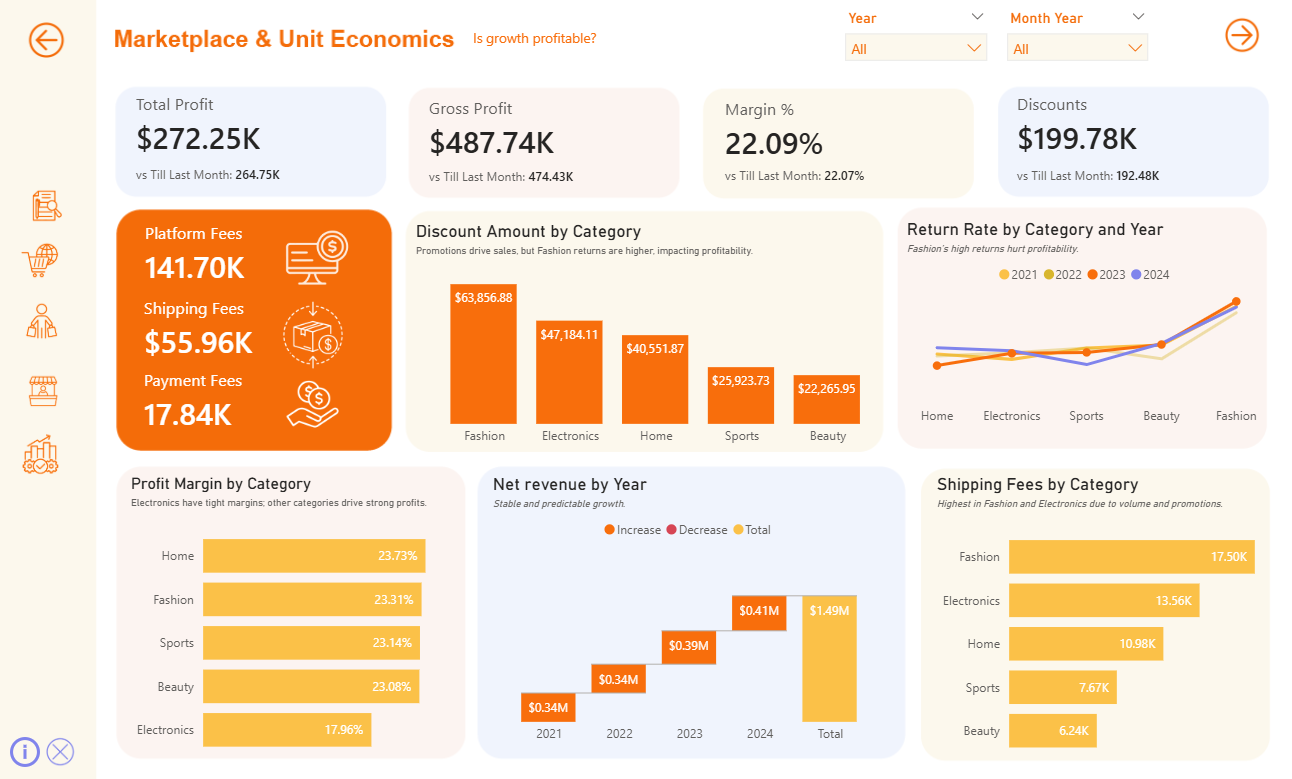

The dashboard page shown, as its layout file describes it:
{"tool":"powerbi","page":{"name":"Marketplace & Unit Economics","canvas":[1280,780],"ordinal":1},"visuals":[{"type":"clusteredColumnChart","title":"Discount Amount by Category","fields":{"Category":["Products_raw.Category"],"Y":["Sum(Orders_2021_2024.DiscountAmount)"]},"box":[409.3,223.7,483.5,229.9],"z":0},{"type":"waterfallChart","title":"Net revenue by Year","fields":{"Category":["Calendar.Year"],"Y":["Sum(Orders_2021_2024.NetRevenue)"]},"box":[484.5,473.2,397.9,274.2],"z":1000},{"type":"cardVisual","fields":{"Data":["_Measures.Margin %"]},"box":[713.4,106.2,186.6,109.3],"z":2000},{"type":"cardVisual","fields":{"Data":["Sum(Orders_2021_2024.ShippingFeeCharged)"]},"box":[141,295,159,69],"z":3000},{"type":"cardVisual","fields":{"Data":["_Measures.Payment Fees"]},"box":[141.2,370.1,158.8,59.8],"z":4000},{"type":"cardVisual","fields":{"Data":["Sum(Orders_2021_2024.PlatformFee)"]},"box":[142,221,158,69],"z":5000},{"type":"cardVisual","fields":{"Data":["_Measures.Total Discount"]},"box":[1001,96.9,168,129.9],"z":6000},{"type":"cardVisual","fields":{"Data":["_Measures.Total Profit"]},"box":[133,95.9,209.3,130.9],"z":7000},{"type":"cardVisual","fields":{"Data":["_Measures.Gross Profit"]},"box":[421.6,103.1,211.3,117.5],"z":8000},{"type":"textbox","box":[464.9,29.9,154.6,30.9],"z":9000},{"type":"clusteredBarChart","title":"Profit Margin by Category","fields":{"Y":["_Measures.Margin %"],"Category":["Products_raw.Category"]},"box":[128,473,358,292],"z":10000},{"type":"clusteredBarChart","fields":{"Y":["_Measures.Shipping Fees"],"Category":["Products_raw.Category"]},"box":[922.7,473.2,357.7,292.8],"z":11000},{"type":"image","box":[9.3,185.6,79,49],"z":12000},{"type":"lineChart","fields":{"Category":["Products_raw.Category"],"Y":["_Measures.Return Rate"],"Series":["Calendar.Year"]},"box":[892.8,221.6,363.9,212.4],"z":13000},{"type":"image","box":[9.3,233.6,70,58],"z":14000},{"type":"image","box":[9.3,292.6,70,58],"z":15000},{"type":"image","box":[9.3,363.6,79,58],"z":16000},{"type":"slicer","fields":{"Values":["Calendar.Year"]},"box":[826.7,10.8,159.6,59.1],"z":17000},{"type":"image","box":[9.3,429.6,70,51],"z":18000},{"type":"slicer","fields":{"Values":["Calendar.Month Year"]},"box":[986.4,10.8,158.6,59.1],"z":19000},{"type":"shape","box":[0,670.1,97.9,110.3],"z":20000},{"type":"image","box":[251,272,122,128],"z":21000},{"type":"image","box":[207,194,226,156],"z":22000},{"type":"image","box":[250.5,339.2,122.7,129.9],"z":23000},{"type":"image","box":[1190.7,5.2,75.3,70.1],"z":24000},{"type":"image","box":[5.2,6.2,78.4,78.4],"z":25000},{"type":"actionButton","box":[8.9,727.2,45.3,39.4],"z":27000},{"type":"image","box":[31.5,727.2,62.1,39.4],"z":28000}]}

Visuals, with their boxes in screenshot pixels (x1, y1, x2, y2), scaled from the page's 1280x780 canvas onto the 1292x779 screenshot:
"Discount Amount by Category" clusteredColumnChart: l=413, t=223, r=901, b=453
"Net revenue by Year" waterfallChart: l=489, t=473, r=891, b=746
cardVisual - _Measures.Margin %: l=720, t=106, r=908, b=215
cardVisual - Sum(Orders_2021_2024.ShippingFeeCharged): l=142, t=295, r=303, b=364
cardVisual - _Measures.Payment Fees: l=143, t=370, r=303, b=429
cardVisual - Sum(Orders_2021_2024.PlatformFee): l=143, t=221, r=303, b=290
cardVisual - _Measures.Total Discount: l=1010, t=97, r=1180, b=227
cardVisual - _Measures.Total Profit: l=134, t=96, r=346, b=227
cardVisual - _Measures.Gross Profit: l=426, t=103, r=639, b=220
textbox: l=469, t=30, r=625, b=61
"Profit Margin by Category" clusteredBarChart: l=129, t=472, r=491, b=764
clusteredBarChart - _Measures.Shipping Fees x Products_raw.Category: l=931, t=473, r=1291, b=765
image: l=9, t=185, r=89, b=234
lineChart - Products_raw.Category x _Measures.Return Rate: l=901, t=221, r=1268, b=433
image: l=9, t=233, r=80, b=291
image: l=9, t=292, r=80, b=350
image: l=9, t=363, r=89, b=421
slicer - Calendar.Year: l=834, t=11, r=996, b=70
image: l=9, t=429, r=80, b=480
slicer - Calendar.Month Year: l=996, t=11, r=1156, b=70
shape: l=0, t=669, r=99, b=778
image: l=253, t=272, r=376, b=399
image: l=209, t=194, r=437, b=350
image: l=253, t=339, r=377, b=468
image: l=1202, t=5, r=1278, b=75
image: l=5, t=6, r=84, b=84
actionButton: l=9, t=726, r=55, b=766
image: l=32, t=726, r=94, b=766
